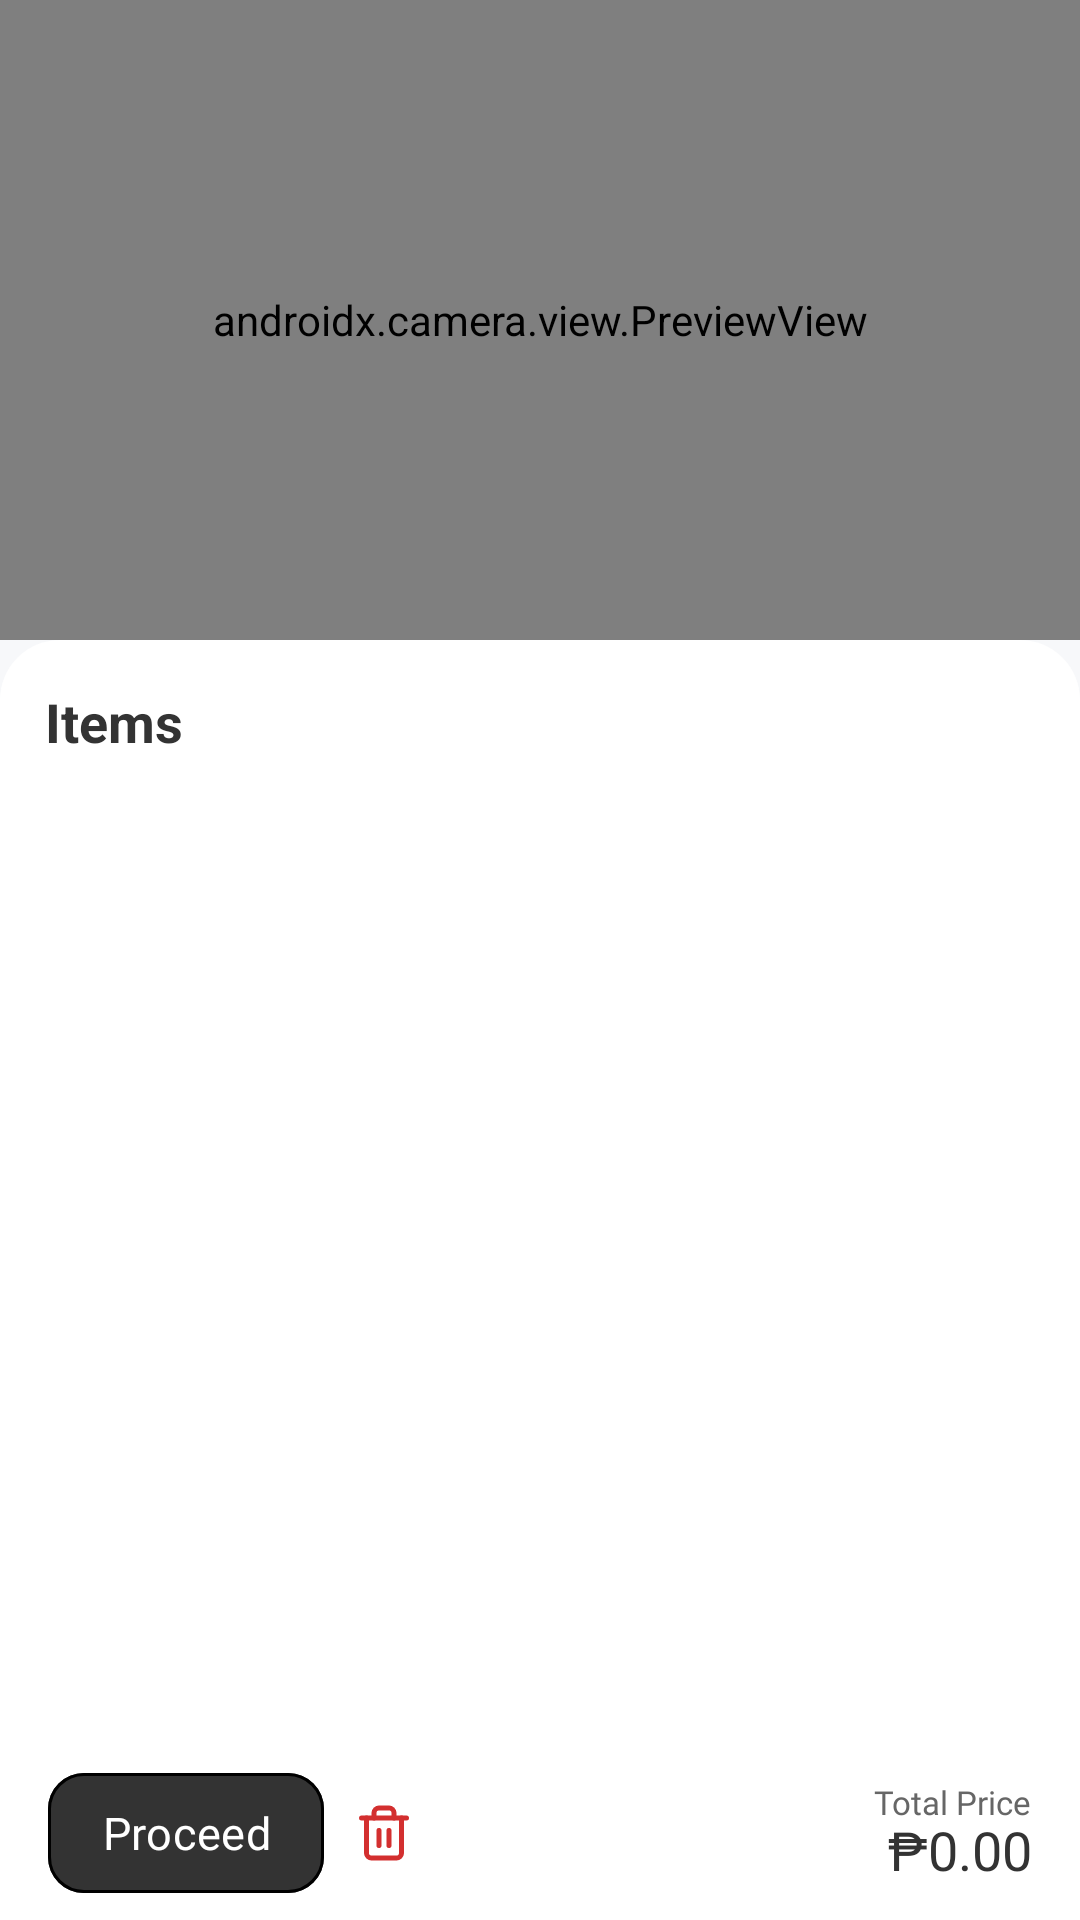

Named icons in this screenshot (1080 × 1920) and their centers, point (x, y):
Clear cart: point (384, 1833)
